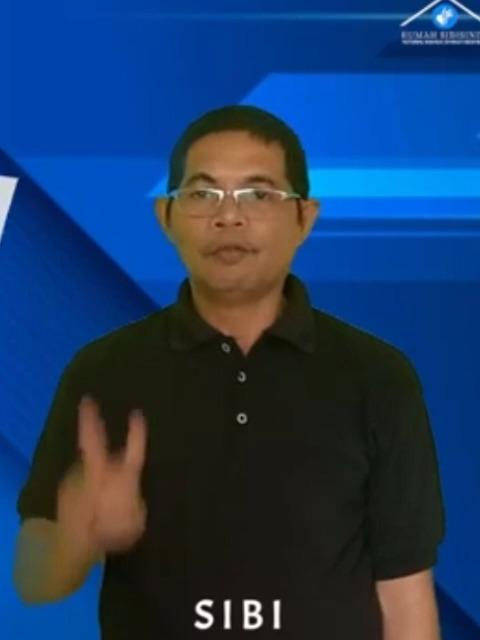V: (51, 390, 164, 564)
